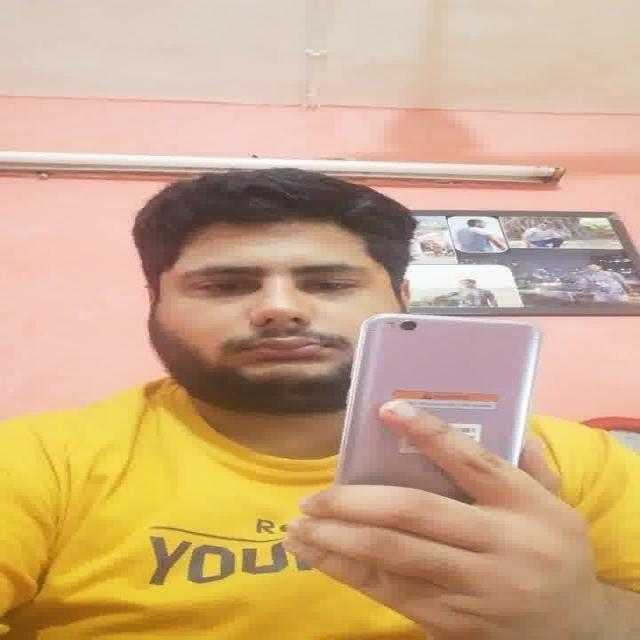Phone: (332, 314, 546, 491)
